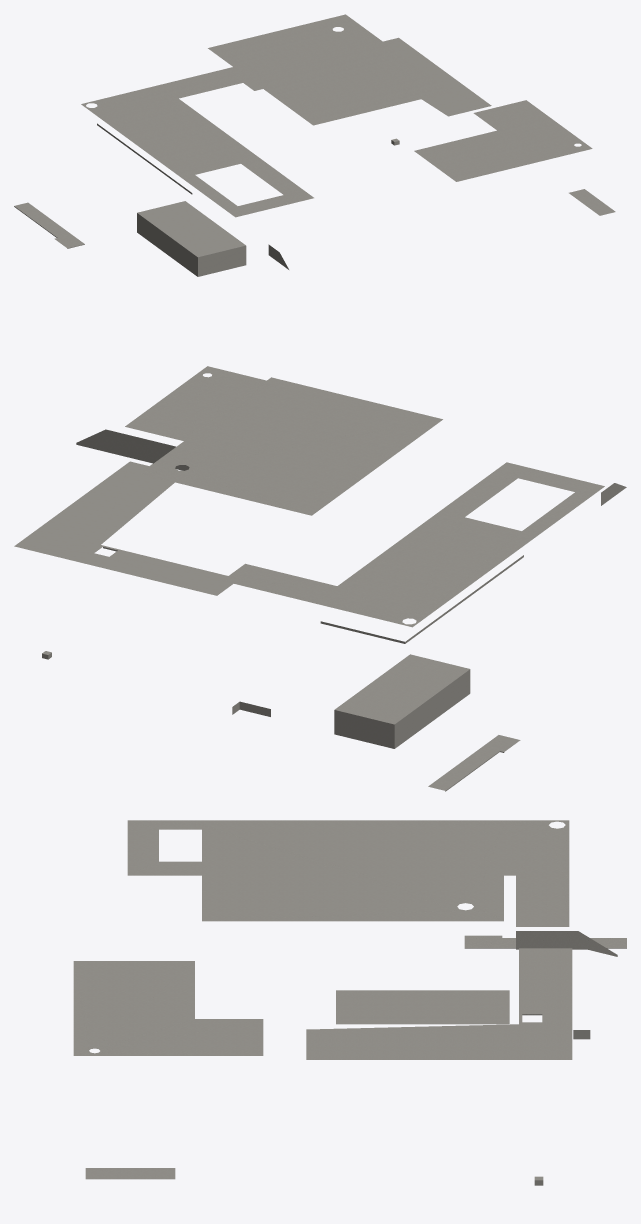
File: kd_stage_135d18_4_21_bounded.glb
3 renders of one model, top to bottom at view 1: azimuth 30°, elevation 25°; view 2: azimuth 150°, elevation 25°; view 3: azimuth 270°, elevation 25°, orthographic. The views are drawn at different scales.
Parts seen in each view (by area): view 1: kd_stage_135d18_4_21_bounded; view 2: kd_stage_135d18_4_21_bounded; view 3: kd_stage_135d18_4_21_bounded.
Part boxes in pixels (bbox=[...]): kd_stage_135d18_4_21_bounded: bbox=[14, 14, 615, 276]; kd_stage_135d18_4_21_bounded: bbox=[14, 366, 626, 791]; kd_stage_135d18_4_21_bounded: bbox=[73, 820, 626, 1185].
Size of the model in its own units: 12.19 by 4.68 by 10.76.
Materials: 1 (1 with a texture image).
